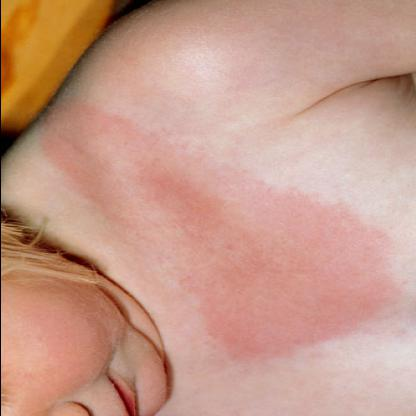Tick: (34, 97, 396, 365)
